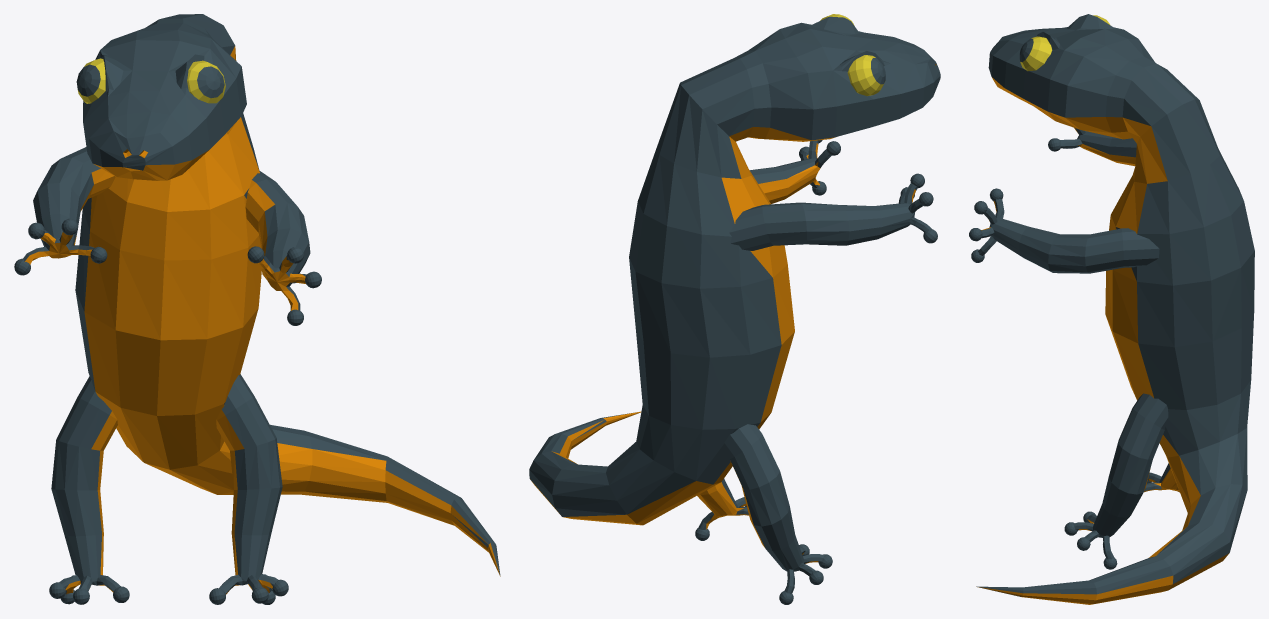
Rendered from newt.gltf.
3 views of the same model, side by side, from view 1: azimuth 30°, elevation 25°; view 2: azimuth 150°, elevation 25°; view 3: azimuth 270°, elevation 25° (orthographic). The views are drawn at different scales.
Parts seen in each view (by area): view 1: node_MeshObject1400906560-PolyPaper17, node_MeshObject-1918727680-PolyPaper17; view 2: node_MeshObject1400906560-PolyPaper17, node_MeshObject-1918727680-PolyPaper17; view 3: node_MeshObject1400906560-PolyPaper17, node_MeshObject-1918727680-PolyPaper17.
Part boxes in pixels (x1,y1,x2,y2): node_MeshObject1400906560-PolyPaper17: (14,14,500,604); node_MeshObject-1918727680-PolyPaper17: (23,147,120,594); node_MeshObject1400906560-PolyPaper17: (529,14,940,604); node_MeshObject-1918727680-PolyPaper17: (724,173,933,593); node_MeshObject1400906560-PolyPaper17: (969,14,1254,604); node_MeshObject-1918727680-PolyPaper17: (1048,128,1179,492).
Bounding box in the file's own units: 2.45 × 3.13 × 1.65.
